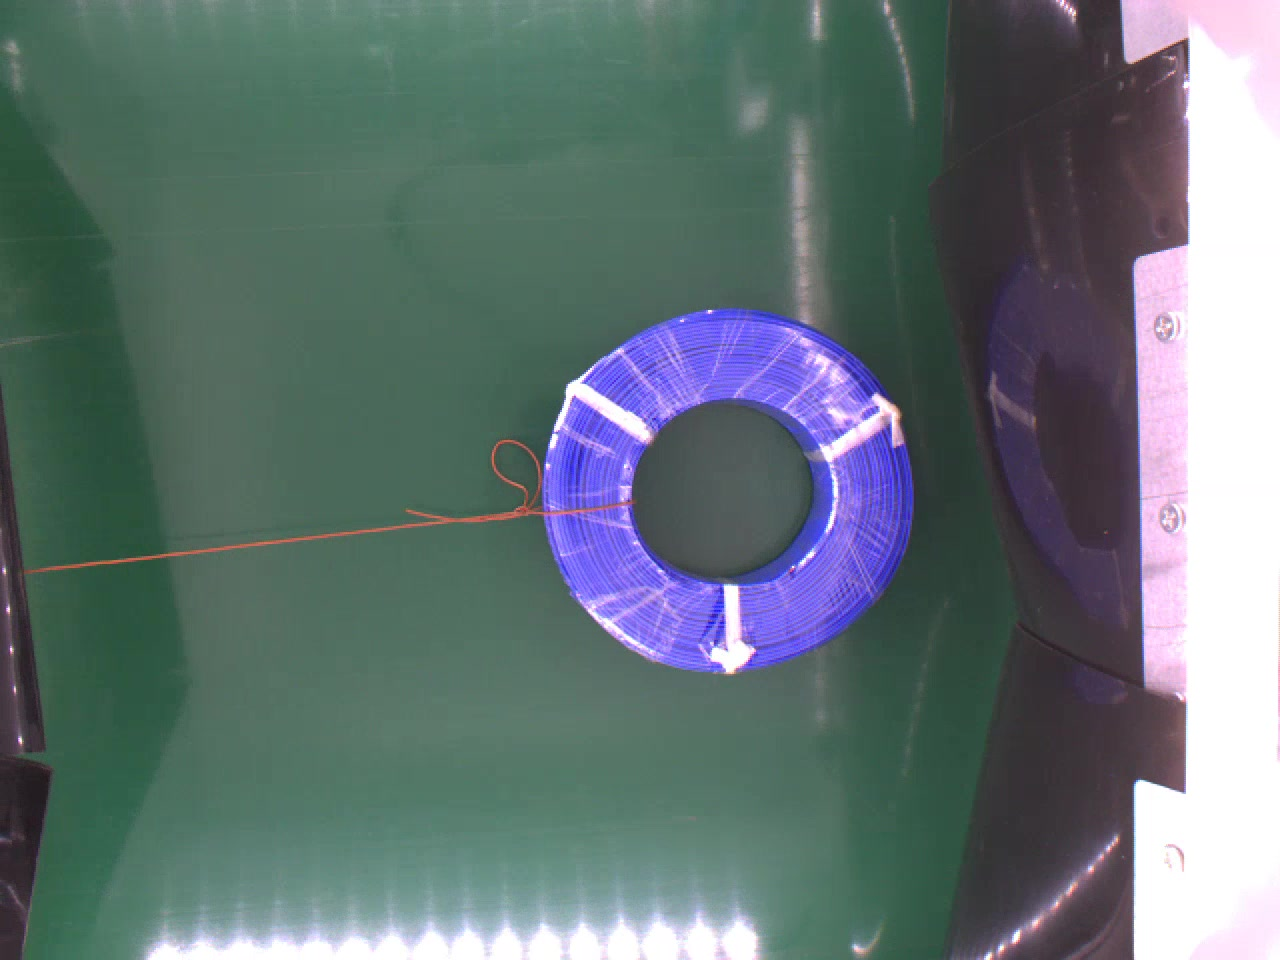blue: (541, 304, 913, 672)
